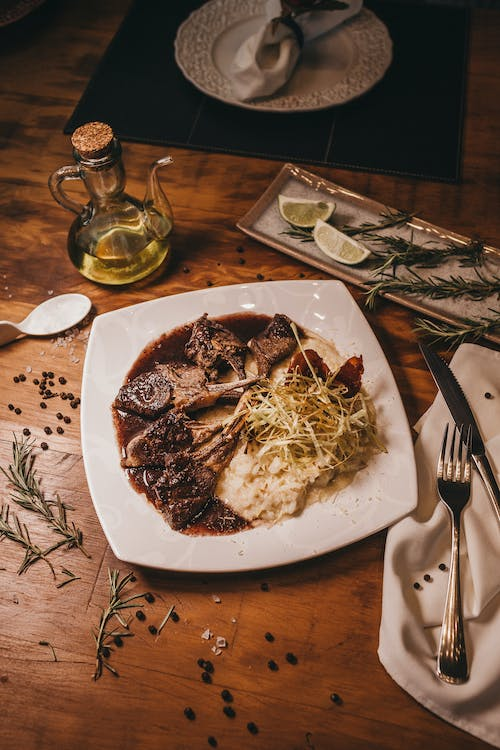knife: (416, 335, 500, 531)
